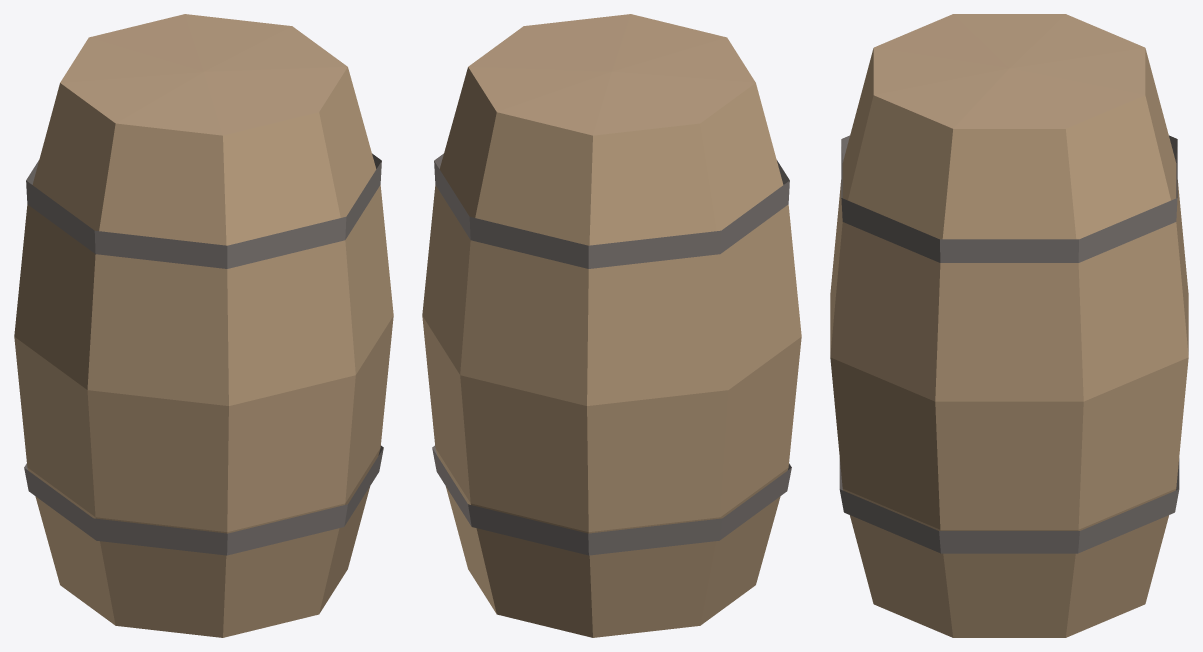
File: barrel.glb
3 views of the same model, side by side, from view 1: azimuth 30°, elevation 25°; view 2: azimuth 150°, elevation 25°; view 3: azimuth 270°, elevation 25° (orthographic).
Parts seen in each view (by area): view 1: barrel; view 2: barrel; view 3: barrel.
Boxes of the visible parts, <box> form: barrel: <box>14,14,393,637</box>; barrel: <box>422,14,801,637</box>; barrel: <box>830,14,1188,637</box>.
Size of the model in its own units: 0.5359 by 0.845 by 0.5359.
